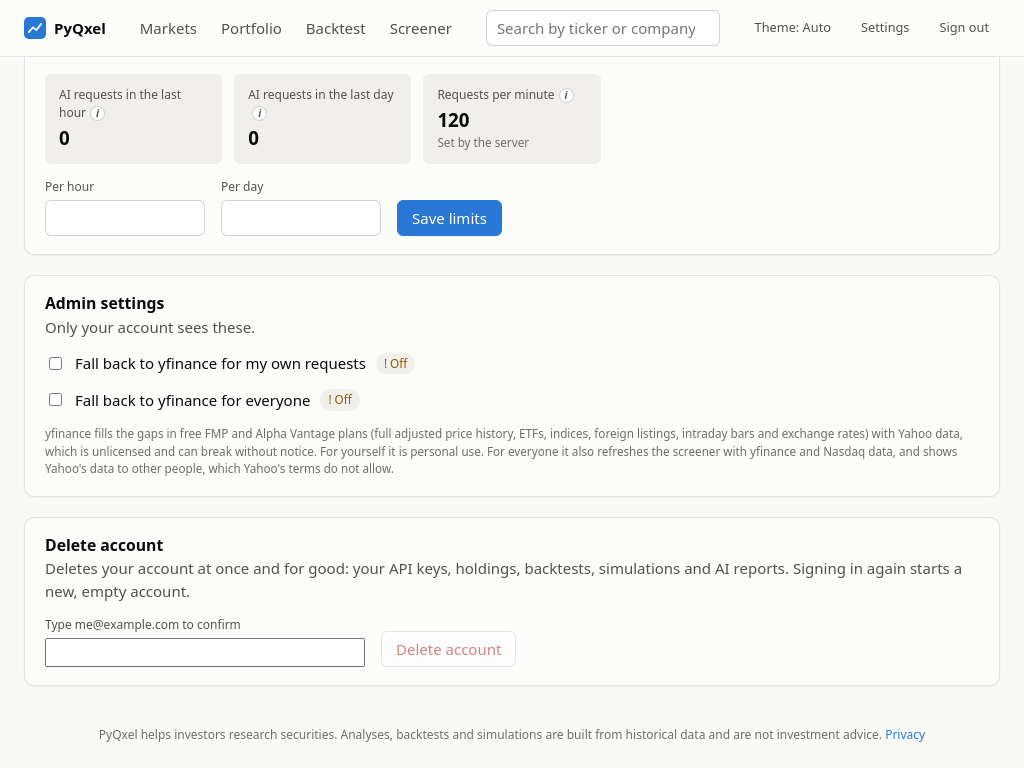
Test: admin settings › turn the yfinance fallback on for everyone
(page scrolled)
What coordinates should you click on to do the following:
click the checkbox labelled "Fall back to yfinance for everyone ! Off"
I would click on:
 (56, 400)
Its box is [49, 393, 62, 406].
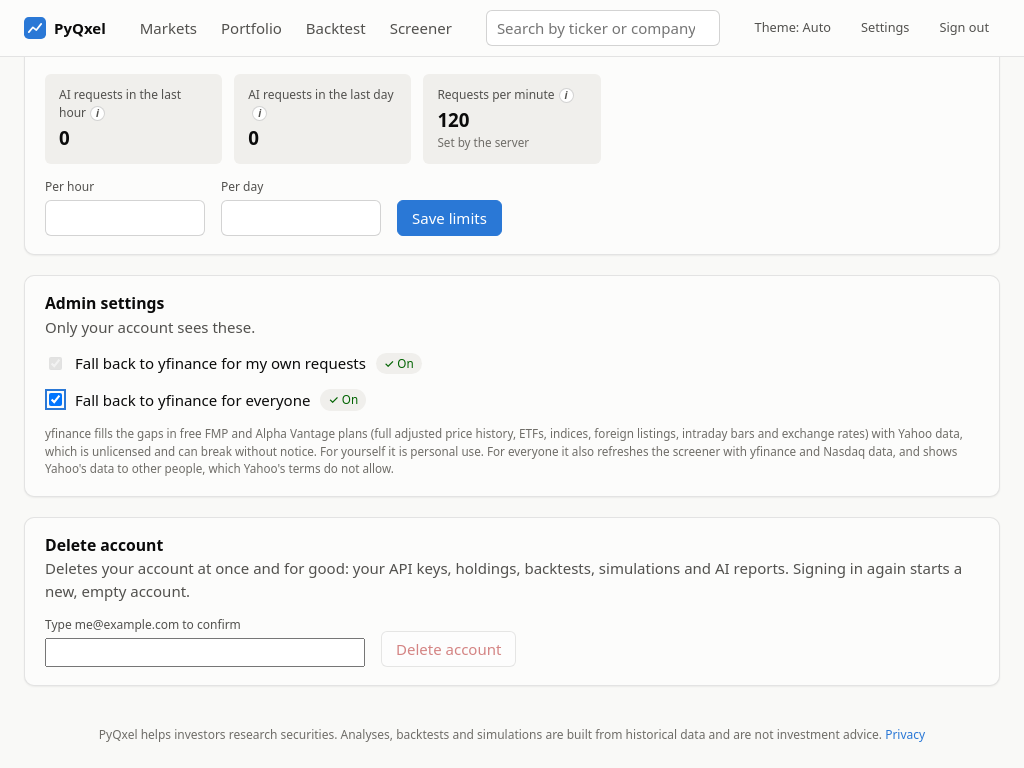
Expected: the checkbox labelled "Fall back to yfinance for everyone ✓ On" is checked, [49, 393, 62, 406]
Expected: the checkbox labelled "Fall back to yfinance for my own requests ✓ On" is checked, [49, 357, 62, 370]
Expected: the checkbox labelled "Fall back to yfinance for my own requests ✓ On" is disabled, [49, 357, 62, 370]
